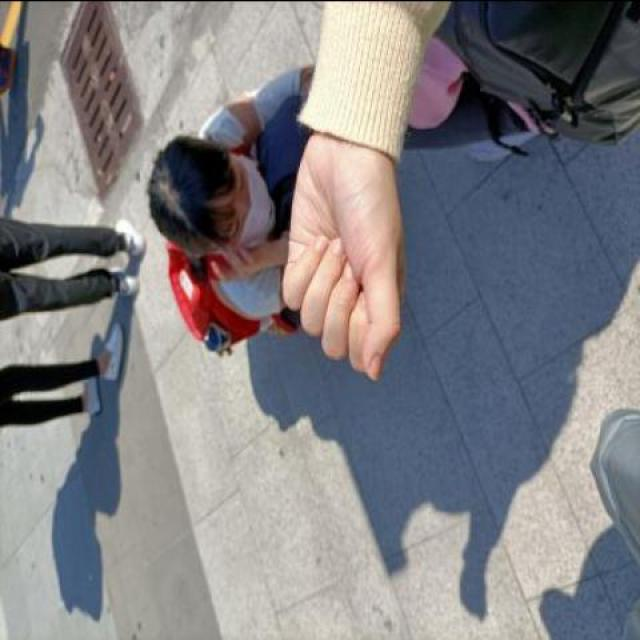fist: (271, 133, 445, 386)
